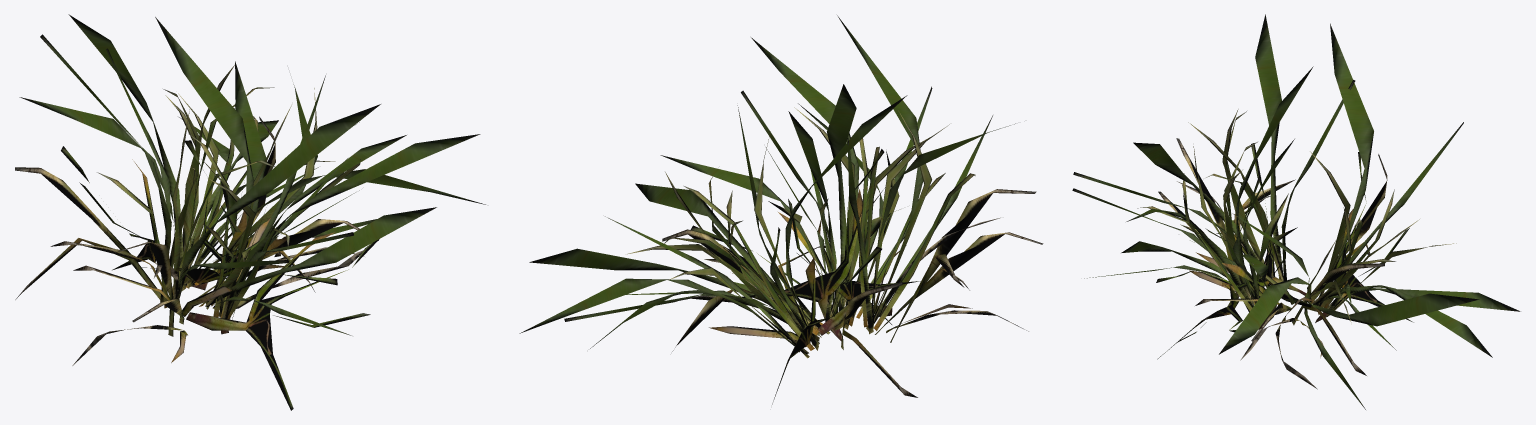
File: SM_Grass_06.gltf
3 renders of one model, left to right at view 1: azimuth 30°, elevation 25°; view 2: azimuth 150°, elevation 25°; view 3: azimuth 270°, elevation 25°, orthographic. The views are drawn at different scales.
Visible parts, largest first — view 1: SM_Grass_06; view 2: SM_Grass_06; view 3: SM_Grass_06.
Boxes of the visible parts, <box> form: SM_Grass_06: <box>15,14,485,410</box>; SM_Grass_06: <box>519,15,1043,404</box>; SM_Grass_06: <box>1072,14,1520,409</box>.
Size of the model in its own units: 0.1905 by 0.1436 by 0.2024.
Materials: 1 (1 with a texture image).
